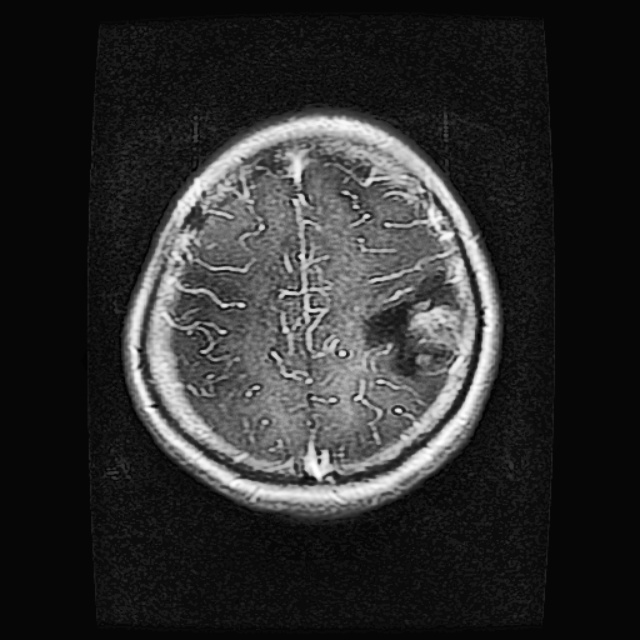Glioma: (364, 270, 468, 372)
